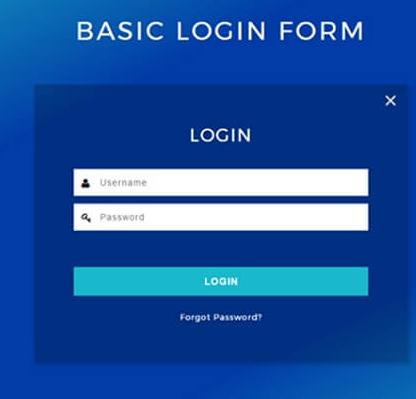button: (71, 265, 369, 298)
field: (71, 200, 369, 233), (70, 166, 370, 198)
